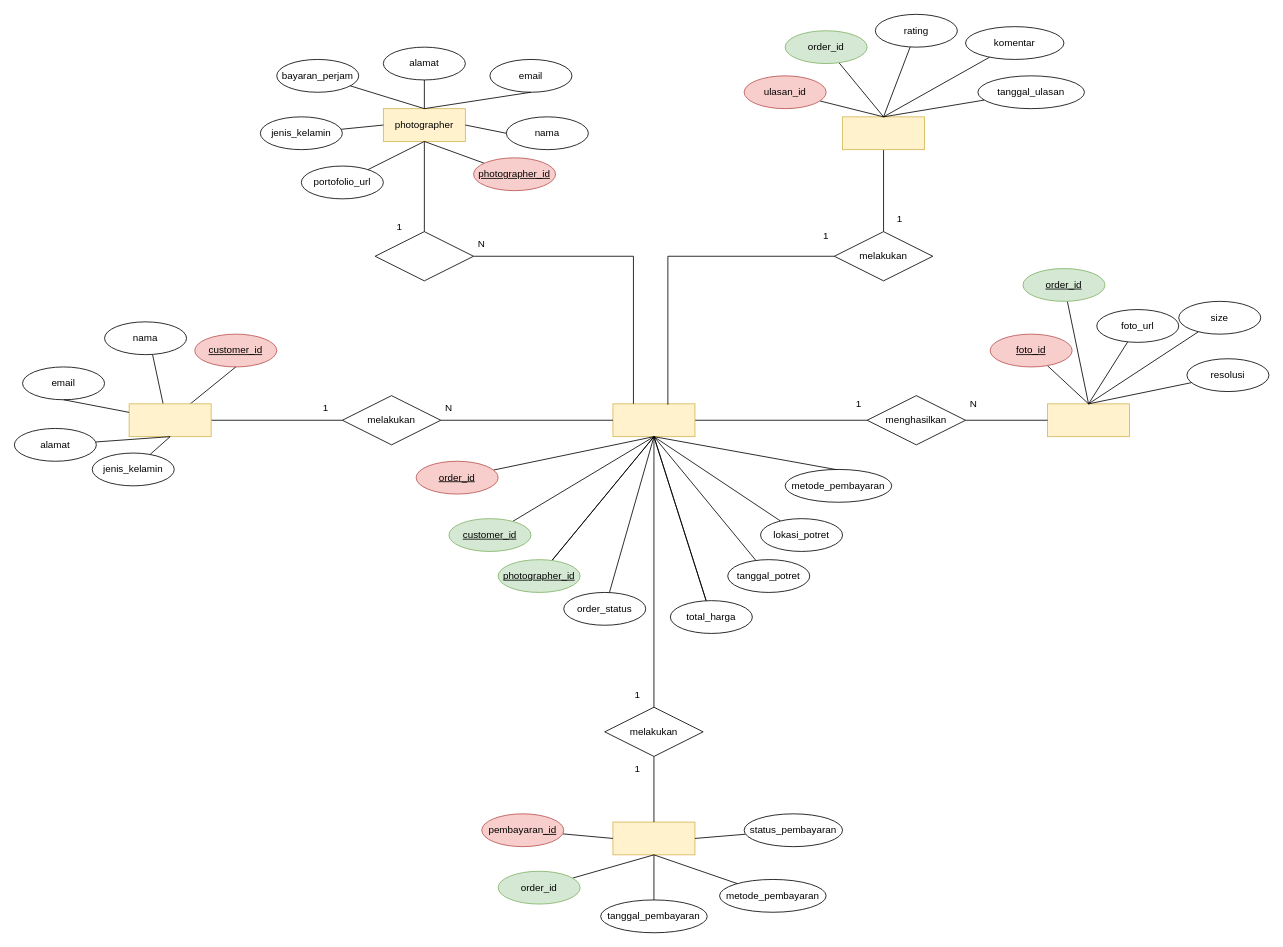
This 1283x947 diagram has some shape labels left out. Here are the shapes that lost their labels. From the top down, the centre of each, then its label:
At (x=883, y=133): "ulasan".
At (x=424, y=256): "menangani".
At (x=169, y=420): "customer".
At (x=653, y=420): "order".
At (x=1088, y=420): "foto".
At (x=653, y=838): "pembayaran".
